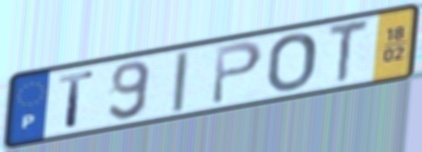9: (106, 60, 151, 122)
I: (170, 49, 191, 116)
O: (265, 30, 320, 94)
P: (208, 38, 265, 108)
T: (326, 16, 372, 87), (56, 68, 96, 130)
